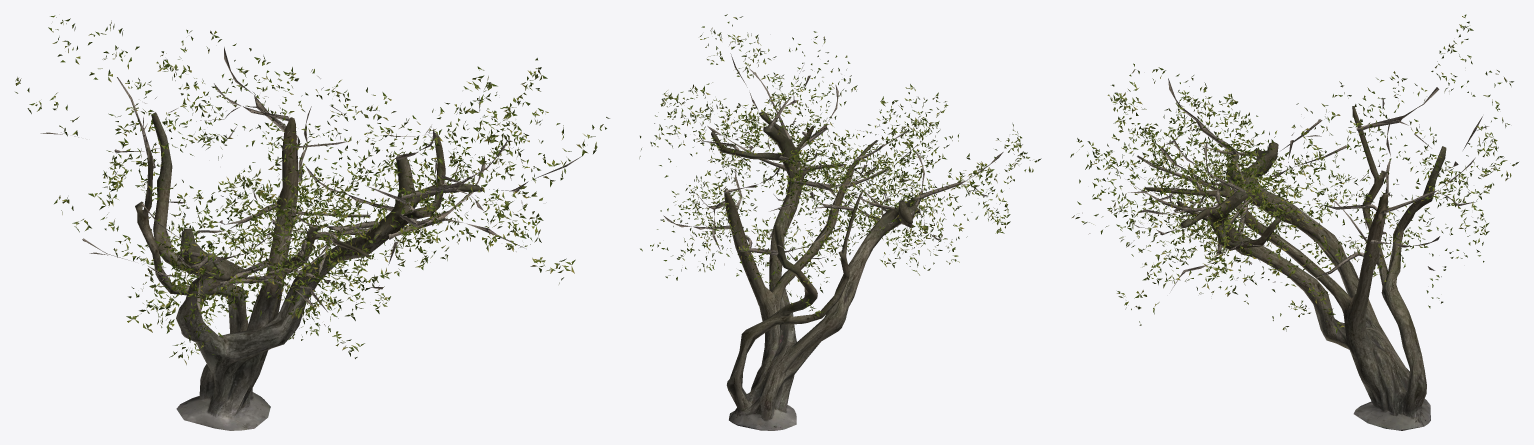
The model's file is island_tree_02.glb.
The picture shows the model from 3 angles, left to right: view 1: azimuth 30°, elevation 25°; view 2: azimuth 150°, elevation 25°; view 3: azimuth 270°, elevation 25°; orthographic projection. The views are drawn at different scales.
Parts seen in each view (by area): view 1: island_tree_02_LOD0; view 2: island_tree_02_LOD0; view 3: island_tree_02_LOD0.
Boxes of the visible parts, bbox=[...] form: island_tree_02_LOD0: bbox=[15, 15, 609, 430]; island_tree_02_LOD0: bbox=[639, 14, 1041, 430]; island_tree_02_LOD0: bbox=[1070, 14, 1518, 430].
Size of the model in its own units: 3.77 by 3.41 by 4.03.
3 materials, 3 textured.
